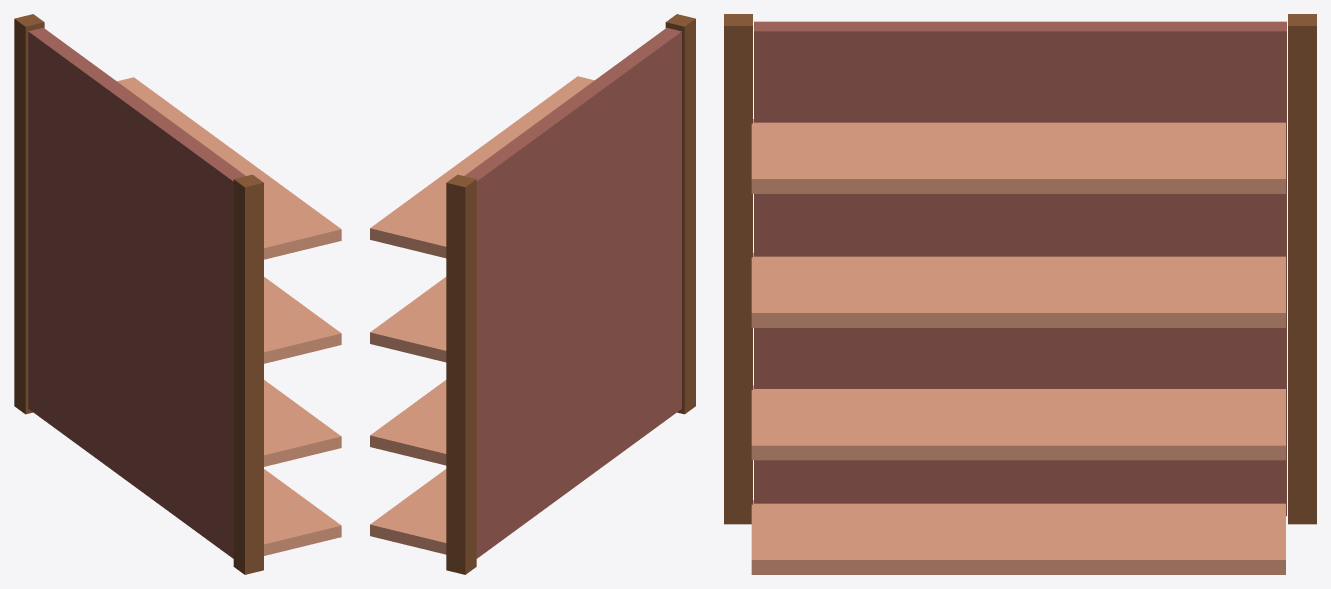
The model's file is Shelf Model.fbx.
3 views of the same model, side by side, from view 1: azimuth 30°, elevation 25°; view 2: azimuth 150°, elevation 25°; view 3: azimuth 270°, elevation 25° (orthographic). The views are drawn at different scales.
Visible parts, largest first — view 1: Cube.003, Cube.007, Cube.006, Cube.008, Cube.002, Cube.004, Cube.005; view 2: Cube.003, Cube.008, Cube.006, Cube.007, Cube.004, Cube.002, Cube.005; view 3: Cube.003, Cube.005, Cube.004, Cube.002, Cube.006, Cube.008, Cube.007.
Part boxes in pixels (<box>): Cube.003: <box>28,27,245,558</box>; Cube.007: <box>233,174,263,574</box>; Cube.006: <box>117,77,341,259</box>; Cube.008: <box>14,14,44,414</box>; Cube.002: <box>264,469,341,555</box>; Cube.004: <box>264,380,341,466</box>; Cube.005: <box>264,277,341,363</box>; Cube.003: <box>464,28,681,558</box>; Cube.008: <box>446,174,476,574</box>; Cube.006: <box>370,76,594,258</box>; Cube.007: <box>665,14,695,414</box>; Cube.004: <box>370,380,446,465</box>; Cube.002: <box>370,469,446,554</box>; Cube.005: <box>370,277,446,362</box>; Cube.003: <box>754,21,1286,516</box>; Cube.005: <box>751,252,1285,327</box>; Cube.004: <box>751,385,1285,460</box>; Cube.002: <box>751,500,1285,574</box>; Cube.006: <box>751,119,1285,193</box>; Cube.008: <box>1288,14,1316,524</box>; Cube.007: <box>724,14,752,524</box>.
Size of the model in its own units: 314 by 1081 by 1166.
